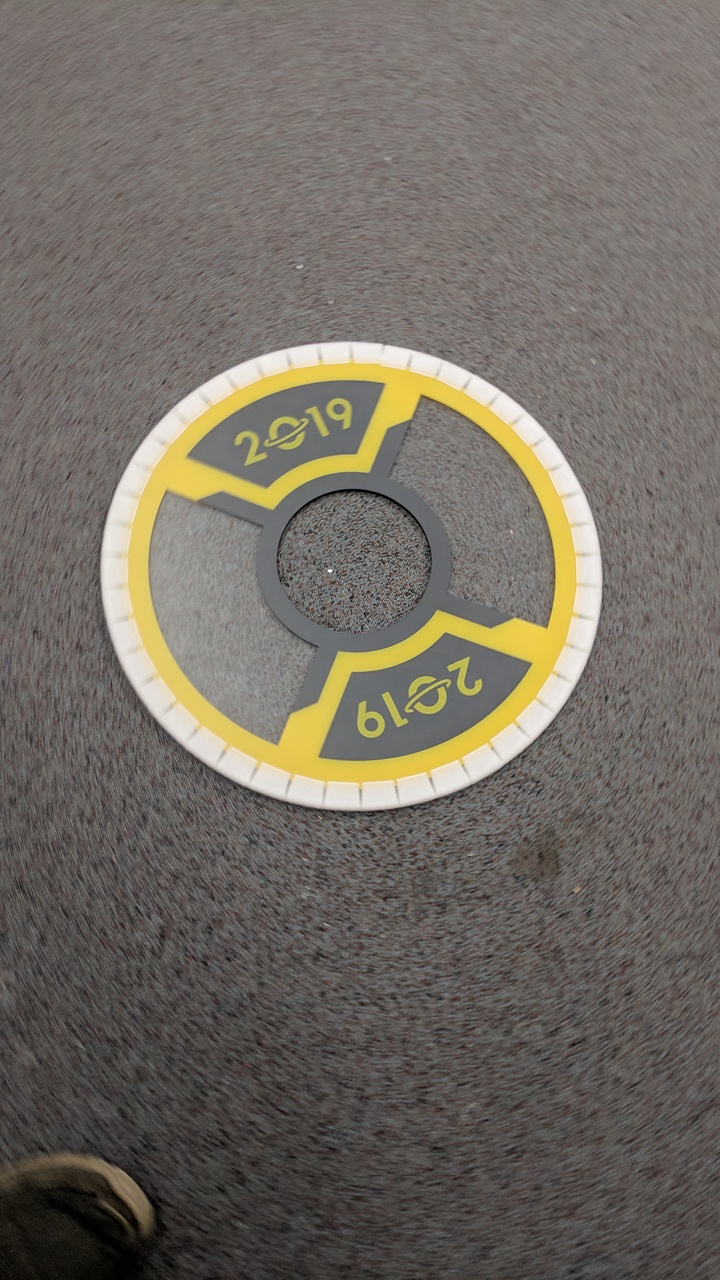hatch_panel: (90, 337, 617, 822)
